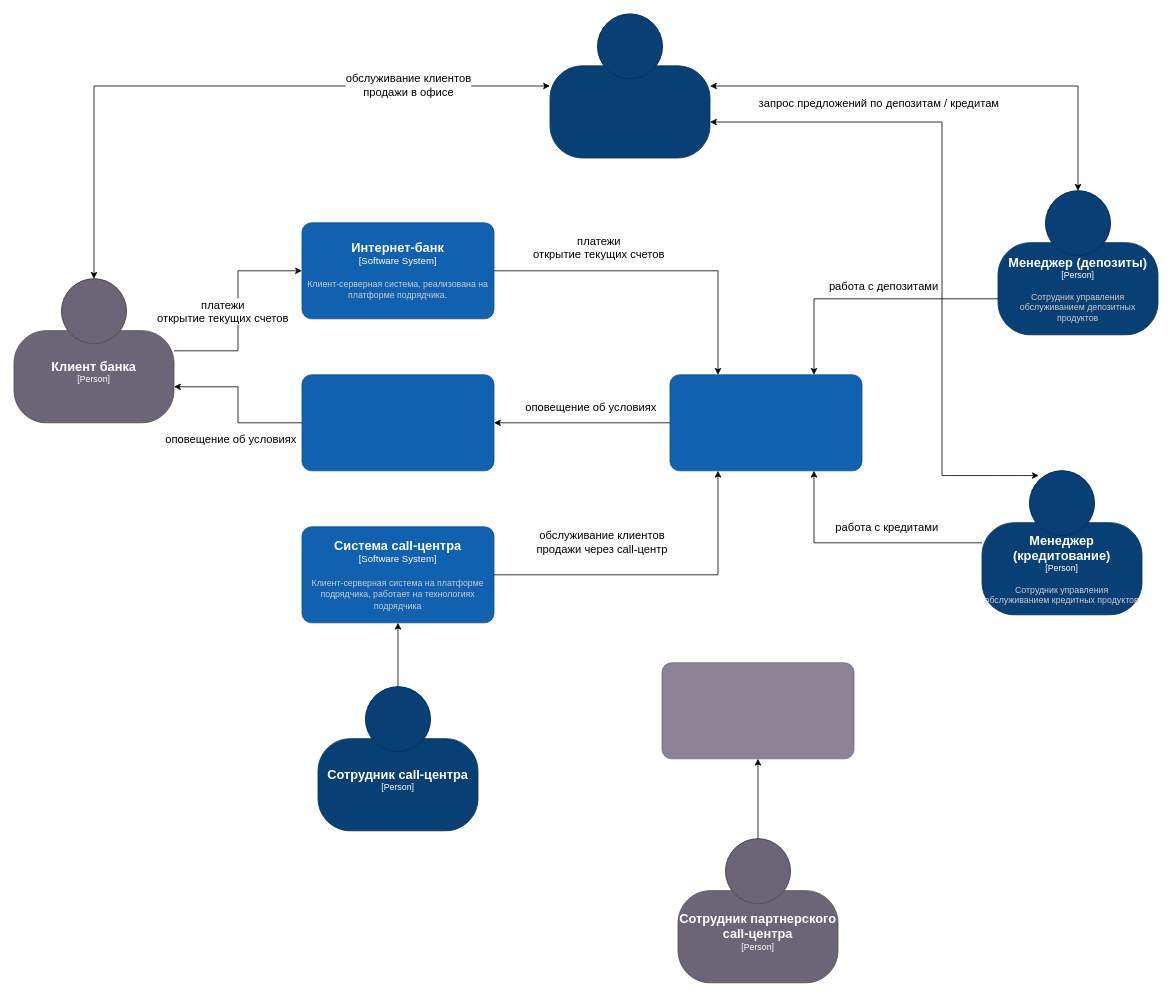
Image size: 1172x997. Some labels were removed from this diagram. Here are the shapes that lost their labels. From the top down, the centre of each, then its label:
the point at 629,85: Менеджер фронт-офиса [Person]
the point at 397,422: СМС-шлюз [Software System] Взаимодействие с телеком-оператором
the point at 765,422: АБС [Software System] Автоматизированная банковская система
the point at 757,710: Система партнерского call-центра [Software System]
